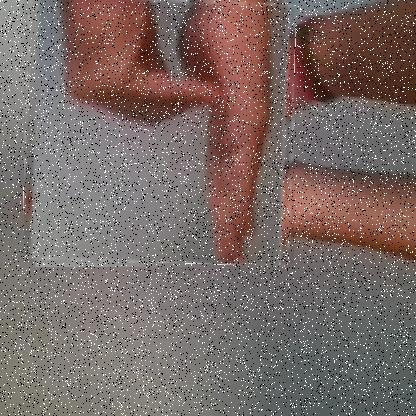Z: (23, 0, 294, 264)
